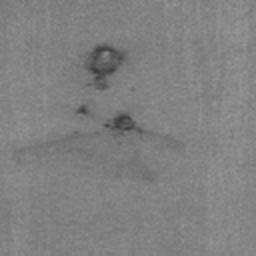Iron sheet ash: (86, 42, 127, 91), (104, 111, 143, 134), (74, 102, 87, 115)
